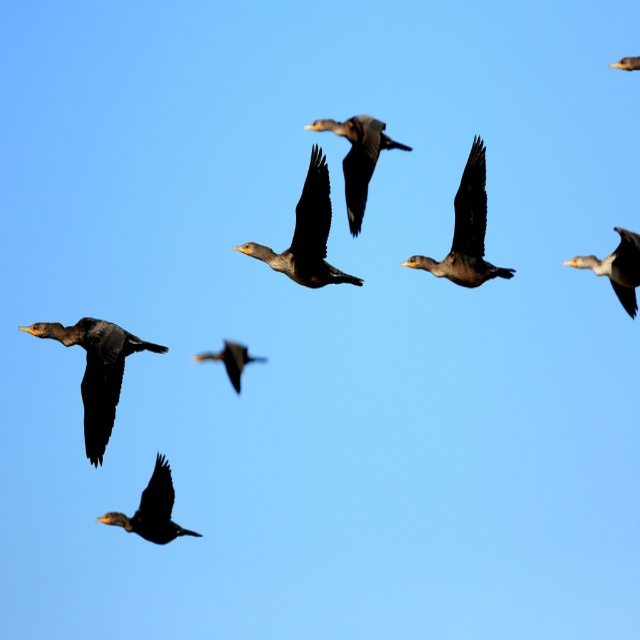Goose: (20, 313, 166, 467), (234, 145, 361, 288), (401, 134, 514, 288), (302, 109, 412, 232), (97, 453, 203, 543), (562, 220, 640, 318), (193, 340, 266, 395), (610, 51, 639, 72)
